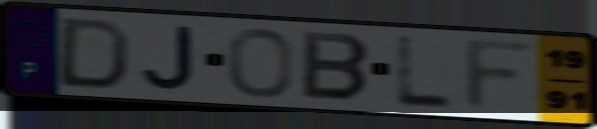B: (299, 29, 375, 104)
D: (52, 16, 135, 92)
F: (461, 37, 541, 114)
J: (140, 24, 199, 93)
L: (393, 33, 458, 111)
O: (225, 26, 296, 100)
